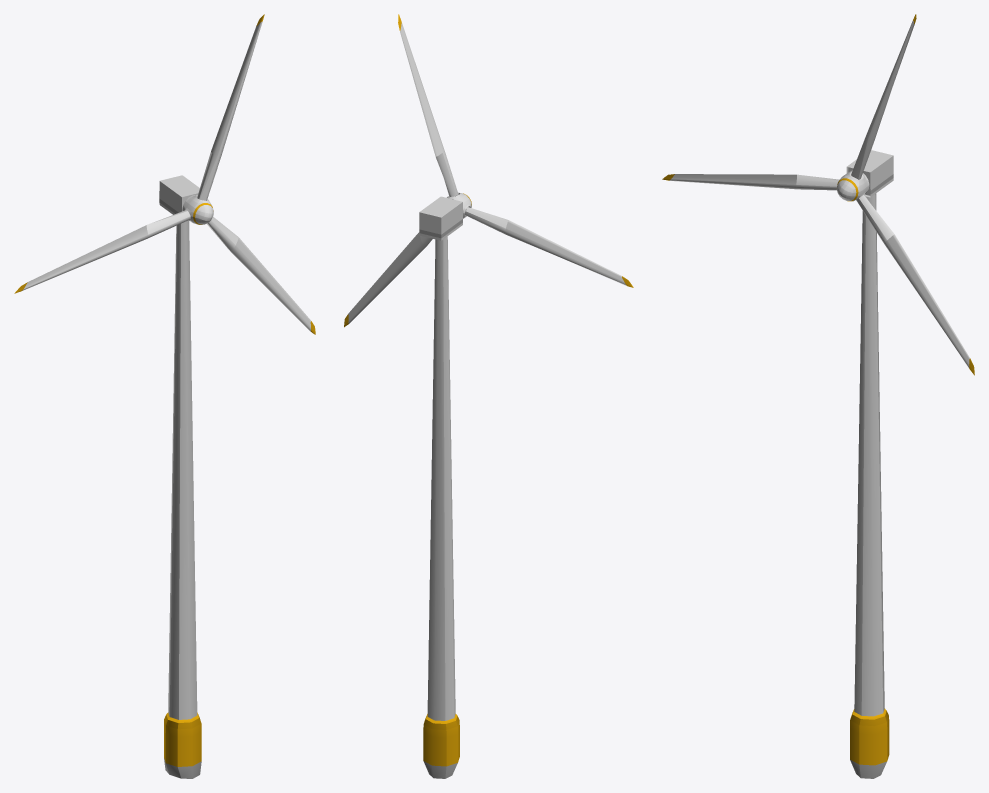
File: Windmill_01.fbx
3 views of the same model, side by side, from view 1: azimuth 30°, elevation 25°; view 2: azimuth 150°, elevation 25°; view 3: azimuth 330°, elevation 25° (orthographic). The views are drawn at different scales.
Visible parts, largest first — view 1: Windmill; view 2: Windmill; view 3: Windmill.
Boxes of the visible parts, box(x1,y1,x2,y2) form: Windmill: box(14, 14, 315, 778); Windmill: box(344, 14, 633, 778); Windmill: box(662, 14, 974, 778).
Bounding box in the file's own units: 15.35 × 36.87 × 3.31.
